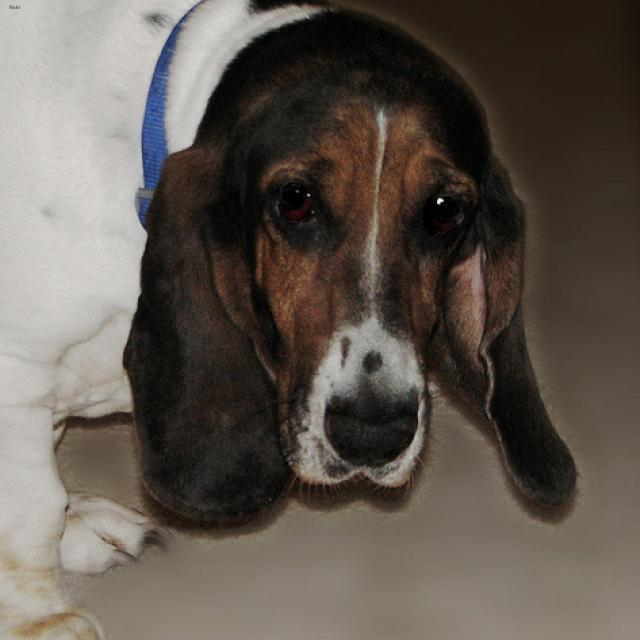dog-basset_hound: (1, 1, 591, 637)
